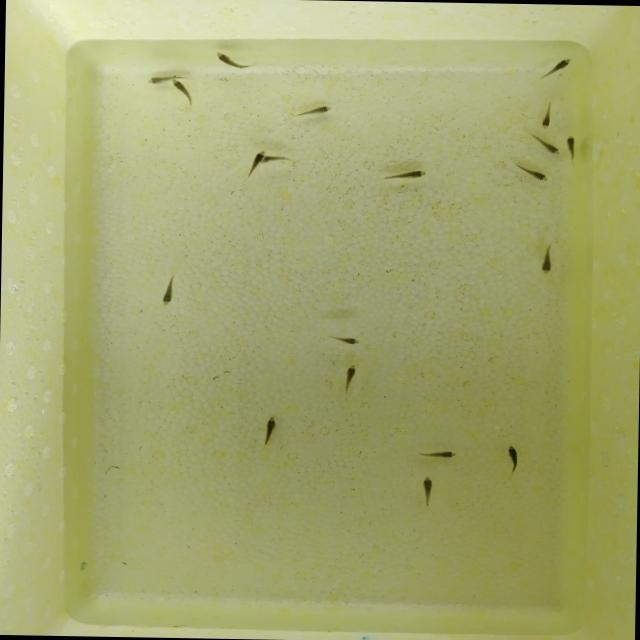fingerling: (210, 51, 258, 74), (372, 167, 431, 185), (538, 54, 572, 84), (512, 160, 552, 185), (498, 442, 526, 476), (414, 473, 439, 508), (156, 272, 179, 310), (242, 146, 266, 182), (412, 445, 462, 462), (338, 360, 362, 395), (290, 102, 334, 121), (258, 412, 282, 446), (171, 78, 197, 107), (530, 134, 560, 159), (536, 242, 556, 277), (322, 332, 365, 348), (562, 132, 582, 164), (536, 100, 556, 130), (260, 150, 293, 164), (144, 74, 173, 84)
